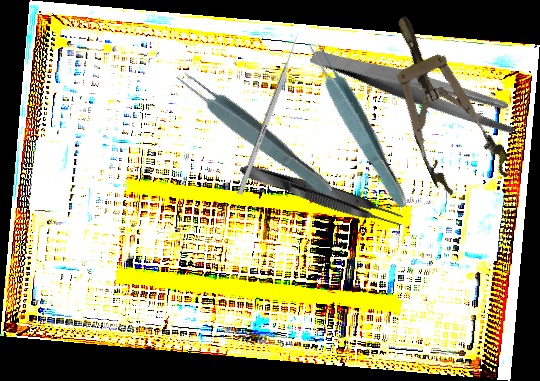Dressing Forceps: (308, 0, 525, 176)
Pusher: (237, 30, 302, 196)
Speculum: (367, 1, 515, 205)
Tissue Forceps: (171, 63, 339, 202), (301, 34, 415, 213), (235, 156, 408, 233)
